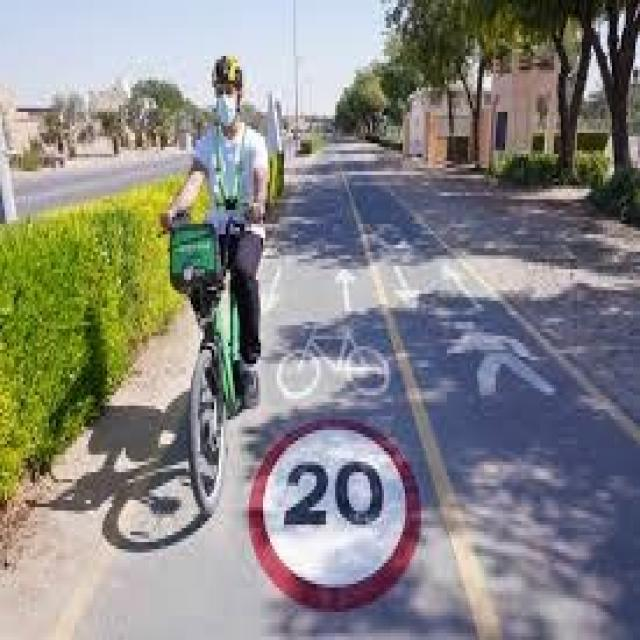speed_limit_20: (247, 385, 425, 622)
